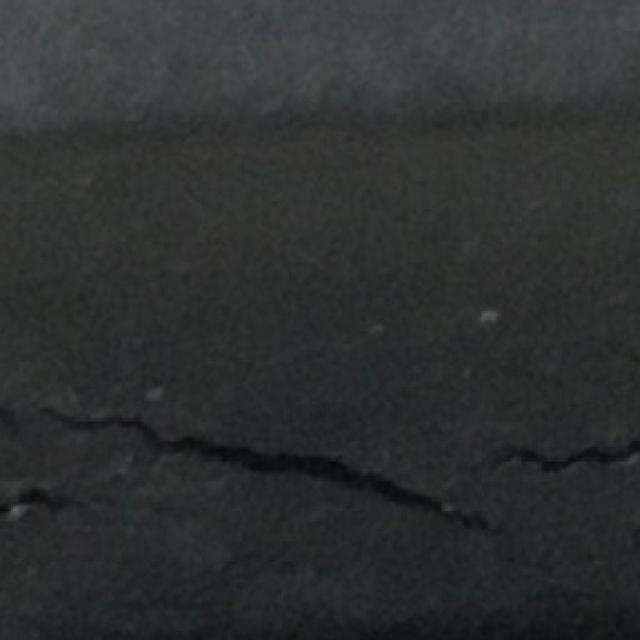Cracks: (0, 373, 638, 546)
